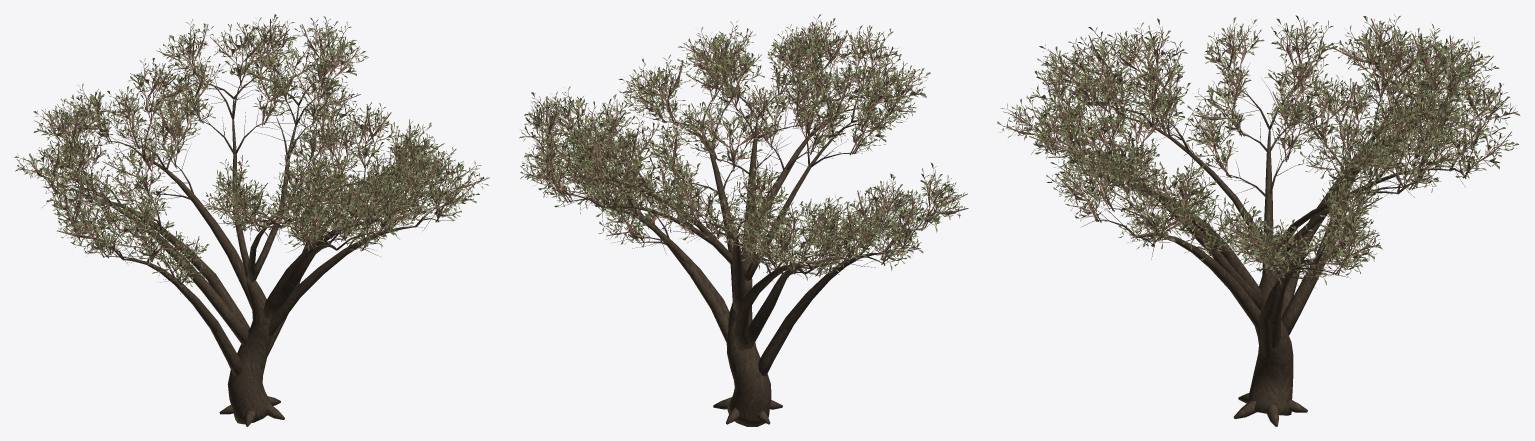
File: olive-medium.glb
3 views of the same model, side by side, from view 1: azimuth 30°, elevation 25°; view 2: azimuth 150°, elevation 25°; view 3: azimuth 270°, elevation 25° (orthographic). The views are drawn at different scales.
Visible parts, largest first — view 1: olive crown photographed shoots, olive trunk and connected boughs; view 2: olive crown photographed shoots, olive trunk and connected boughs; view 3: olive crown photographed shoots, olive trunk and connected boughs.
Part boxes in pixels (x1=…): olive crown photographed shoots: x1=14, y1=14, x2=489, y2=287; olive trunk and connected boughs: x1=42, y1=54, x2=461, y2=426; olive crown photographed shoots: x1=519, y1=14, x2=968, y2=280; olive trunk and connected boughs: x1=532, y1=68, x2=940, y2=426; olive crown photographed shoots: x1=997, y1=14, x2=1520, y2=286; olive trunk and connected boughs: x1=1035, y1=66, x2=1489, y2=426.
Bounding box in the file's own units: 3.32 × 2.69 × 3.46.
Materials: 2 (2 with a texture image).
